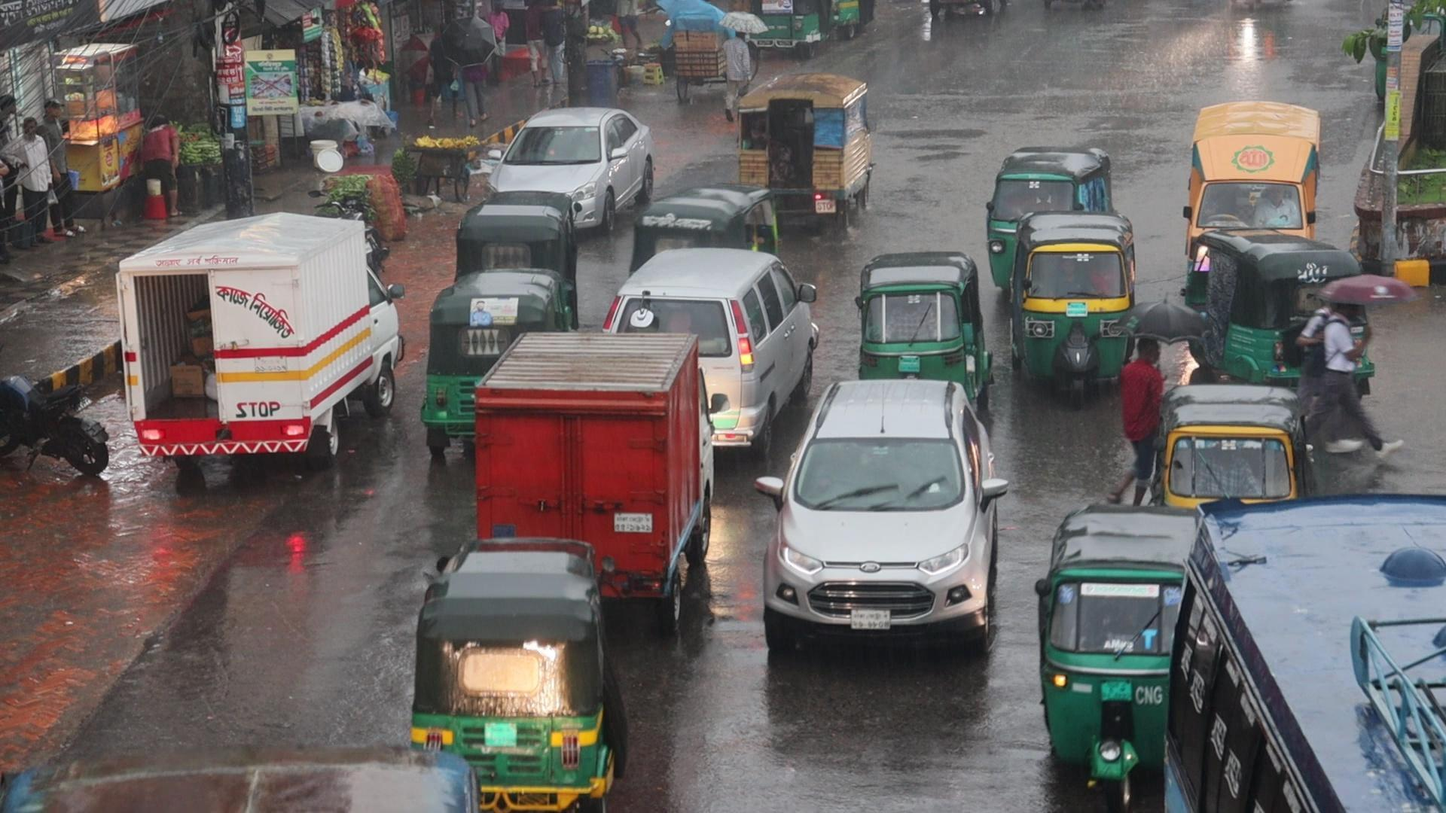Car: (758, 375, 1007, 652), (603, 247, 818, 338)
Truck: (471, 329, 716, 556), (737, 72, 872, 209), (1186, 102, 1319, 233)
